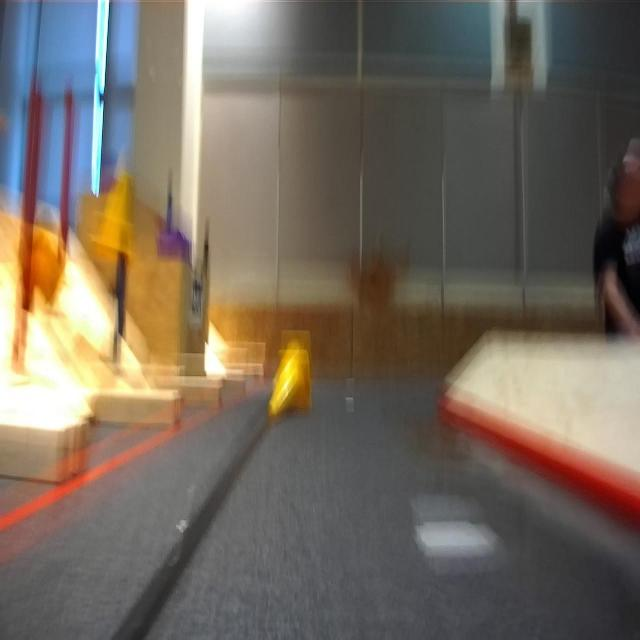frc_cone: (93, 170, 133, 264), (268, 348, 308, 418)
frc_cube: (157, 230, 188, 262)
